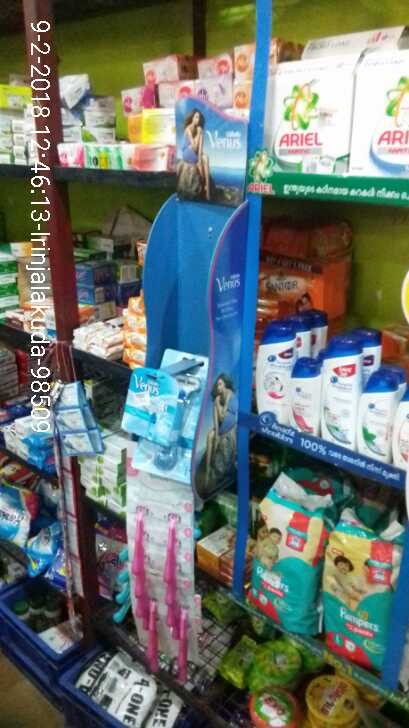beauty: (118, 362, 185, 440), (324, 328, 358, 454), (248, 319, 288, 425), (353, 364, 394, 461), (284, 362, 323, 439)
home: (274, 58, 347, 169), (351, 46, 409, 168)
pharmacy: (319, 525, 387, 670), (243, 508, 326, 623)
